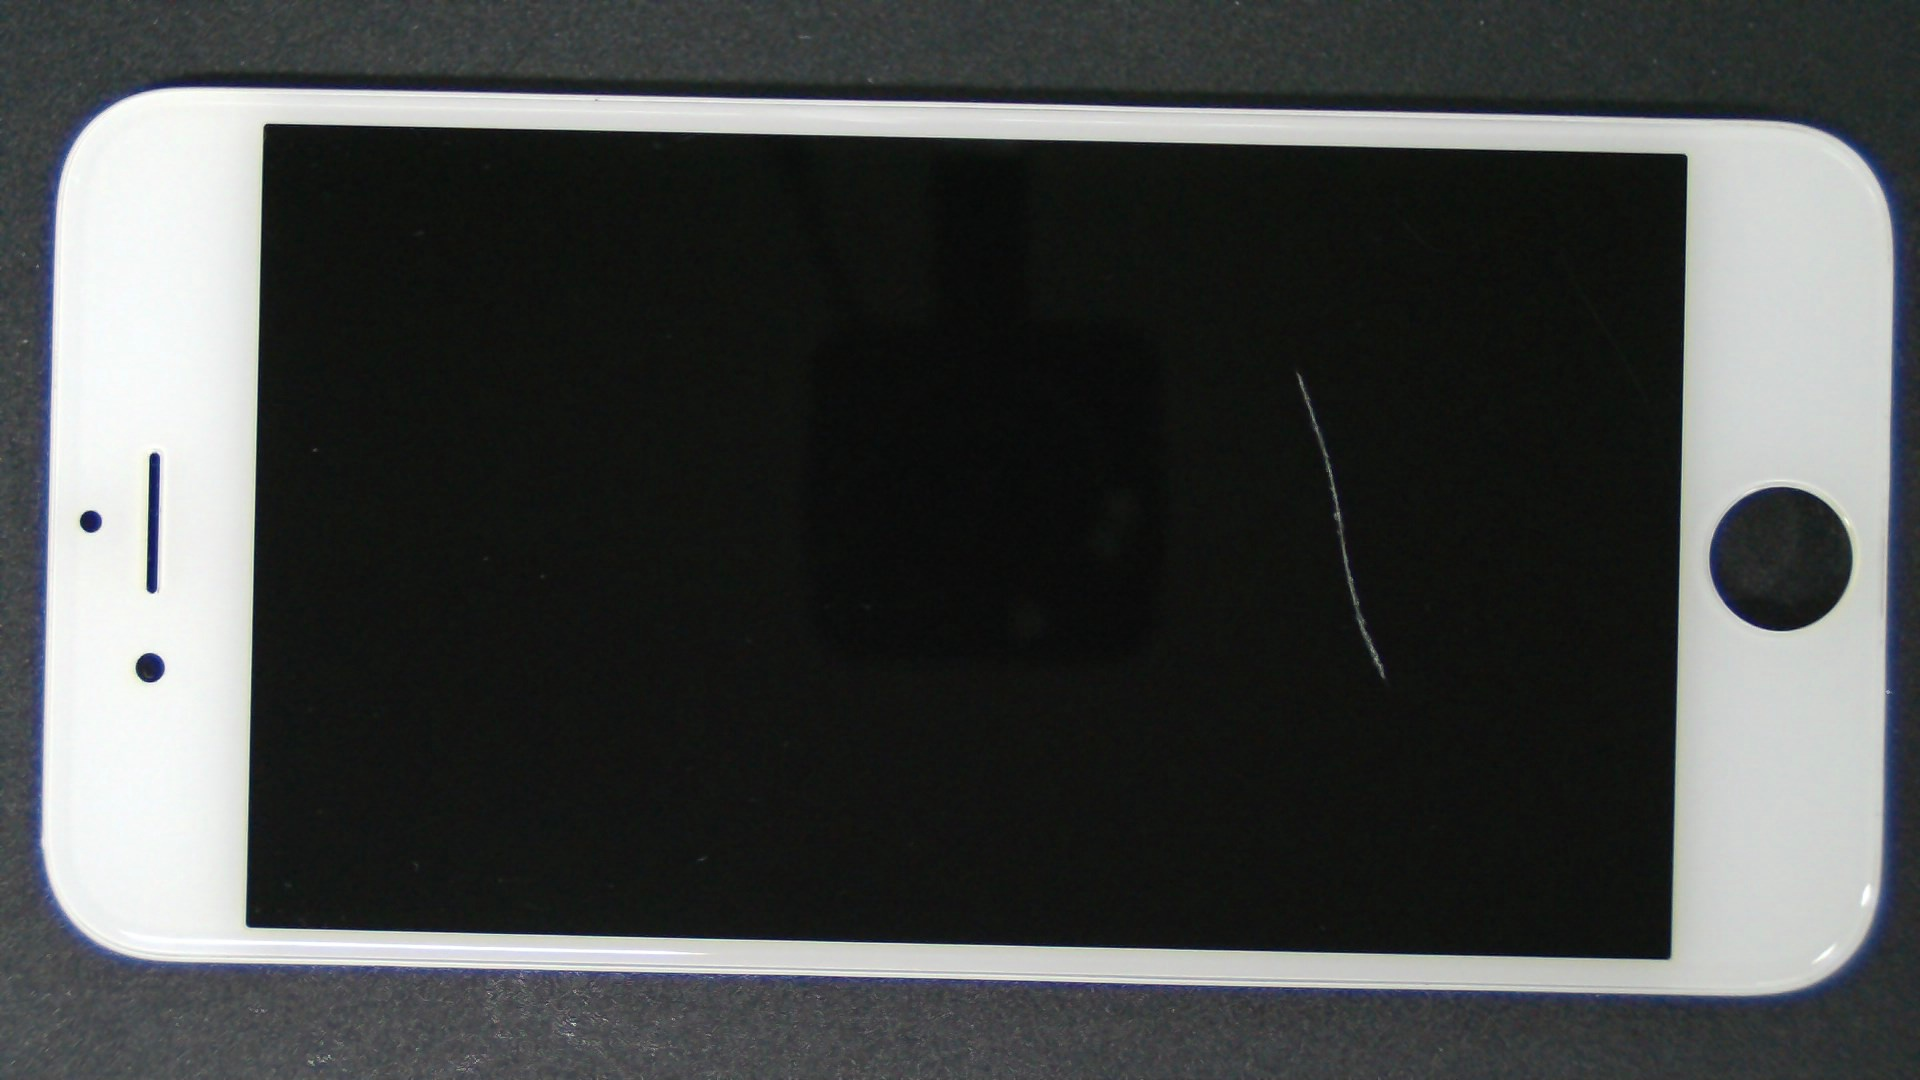oil: (647, 183, 1920, 556)
